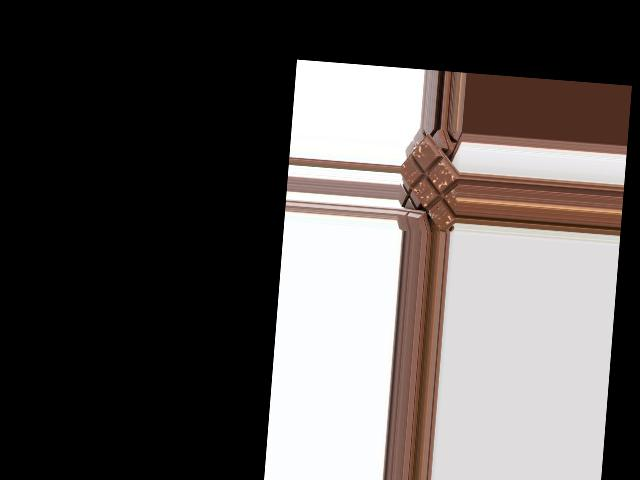chocolate: (397, 138, 462, 231)
